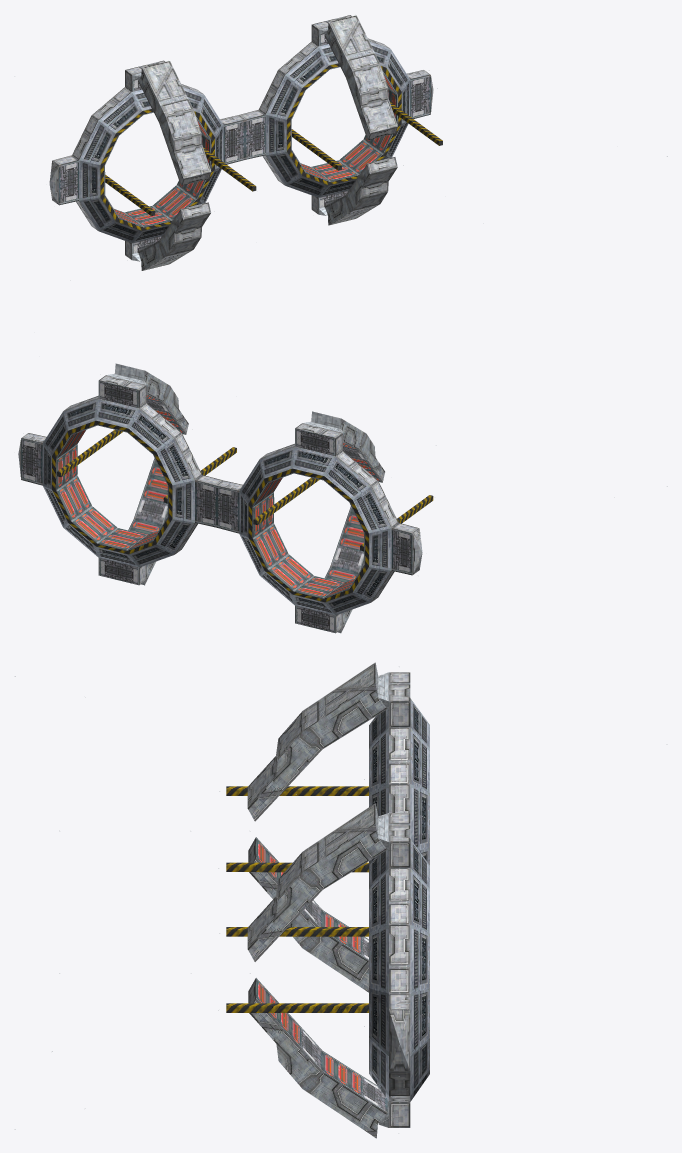
The model's file is DockingRing.obj.
3 renders of one model, top to bottom at view 1: azimuth 30°, elevation 25°; view 2: azimuth 150°, elevation 25°; view 3: azimuth 270°, elevation 25°, orthographic. The views are drawn at different scales.
Visible parts, largest first — view 1: Dock, dock1b, dock1a, dock2b, dock2a; view 2: Dock, dock2a, dock2b, dock1a, dock1b, dock_a, dock_b; view 3: Dock, dock1b, dock1a, dock2a, dock2b.
Part boxes in pixels (x1,y1,x2,y2): Dock: [49, 15, 442, 261]; dock1b: [138, 61, 211, 185]; dock1a: [324, 15, 397, 140]; dock2b: [138, 202, 211, 270]; dock2a: [325, 157, 397, 225]; Dock: [18, 374, 433, 632]; dock2a: [128, 458, 167, 585]; dock2b: [325, 506, 363, 632]; dock1a: [114, 363, 188, 434]; dock1b: [311, 411, 384, 482]; dock_a: [98, 558, 139, 585]; dock_b: [295, 605, 335, 633]; Dock: [226, 672, 429, 1127]; dock1b: [247, 662, 387, 821]; dock1a: [247, 803, 387, 961]; dock2a: [248, 978, 387, 1138]; dock2b: [248, 837, 368, 992].
Bounding box in the file's own units: 633 × 204 × 385.
5 materials, 5 textured.
